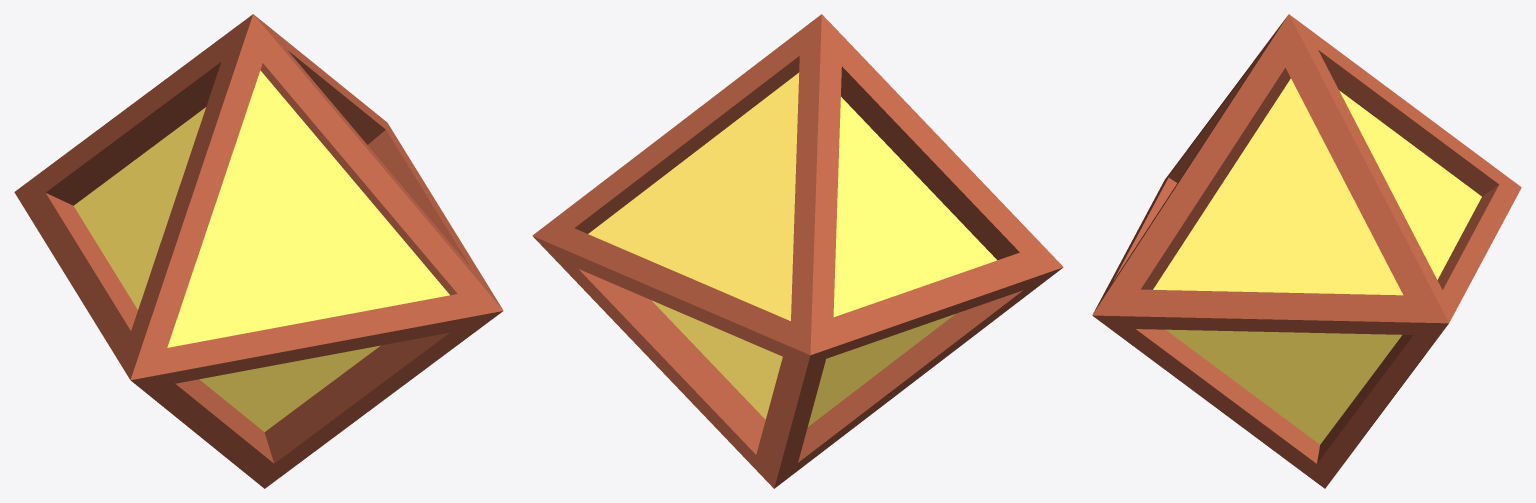
File: Torche.fbx
The picture shows the model from 3 angles, left to right: view 1: azimuth 30°, elevation 25°; view 2: azimuth 150°, elevation 25°; view 3: azimuth 270°, elevation 25°; orthographic projection. The views are drawn at different scales.
Parts seen in each view (by area): view 1: torche.001; view 2: torche.001; view 3: torche.001.
Part boxes in pixels (left/top/right/bottom): torche.001: left=14, top=14, right=503, bottom=488; torche.001: left=532, top=14, right=1063, bottom=488; torche.001: left=1092, top=14, right=1521, bottom=488.
Bounding box in the file's own units: 66.95 × 77.45 × 65.42.
